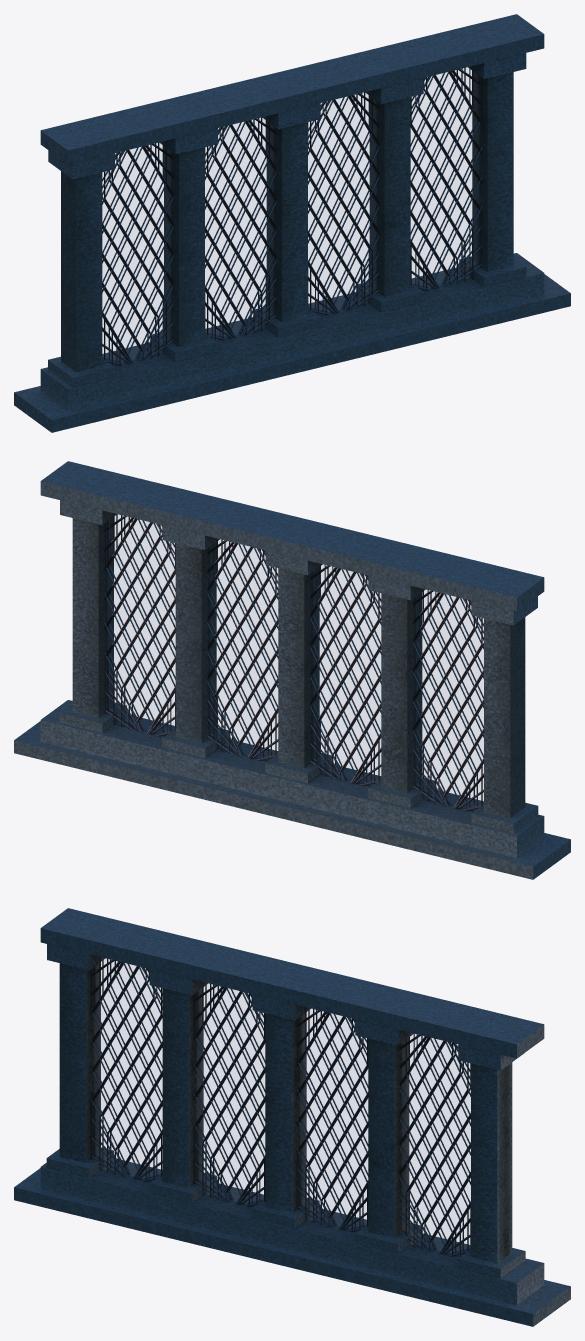
File: sci-fi_wall.glb
3 renders of one model, top to bottom at view 1: azimuth 30°, elevation 25°; view 2: azimuth 150°, elevation 25°; view 3: azimuth 330°, elevation 25°, orthographic.
Parts seen in each view (by area): view 1: Cube.001; view 2: Cube.001; view 3: Cube.001.
Part boxes in pixels (bbox=[...]): Cube.001: bbox=[14, 14, 570, 432]; Cube.001: bbox=[14, 461, 570, 879]; Cube.001: bbox=[14, 908, 570, 1326].
Bounding box in the file's own units: 1775 × 893 × 224.
3 materials, 3 textured.
